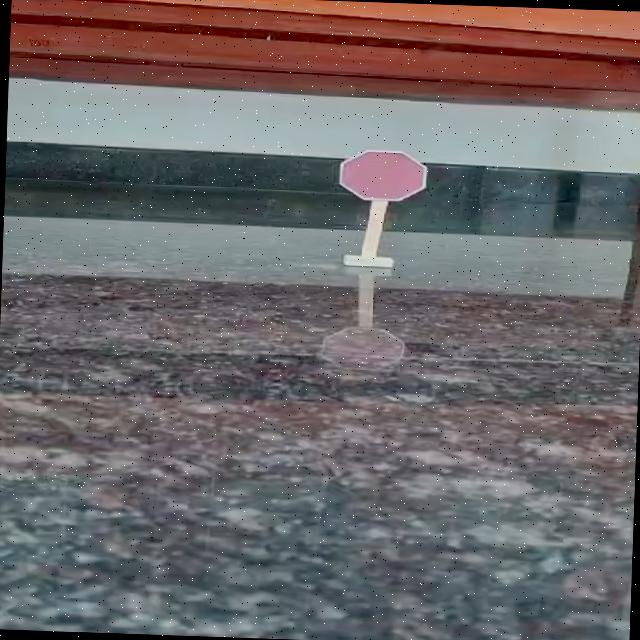Stop: (326, 138, 440, 218)
